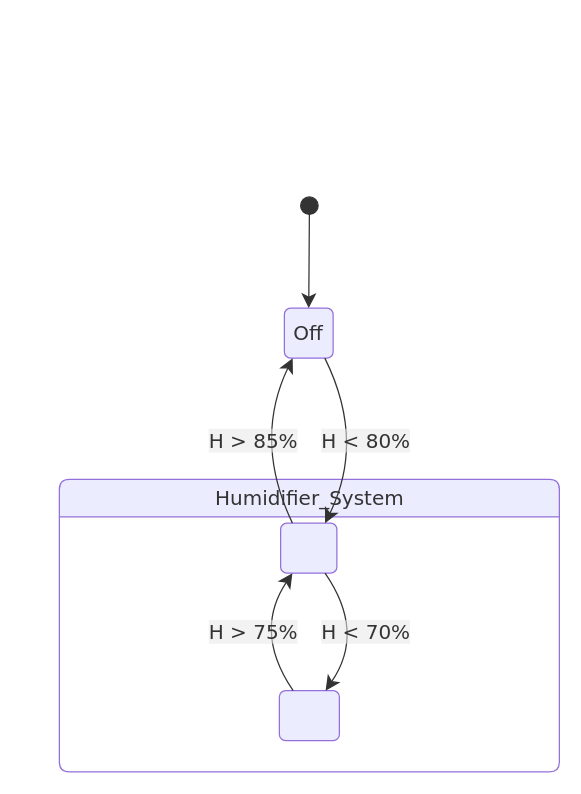
This 581x794 diagram has some shape labels left out. The shapes that lost their labels are listed below. From the top down, each one's centre as x and y in pixels, then its label:
At pixel 308 547: "Low".
At pixel 308 715: "High".
